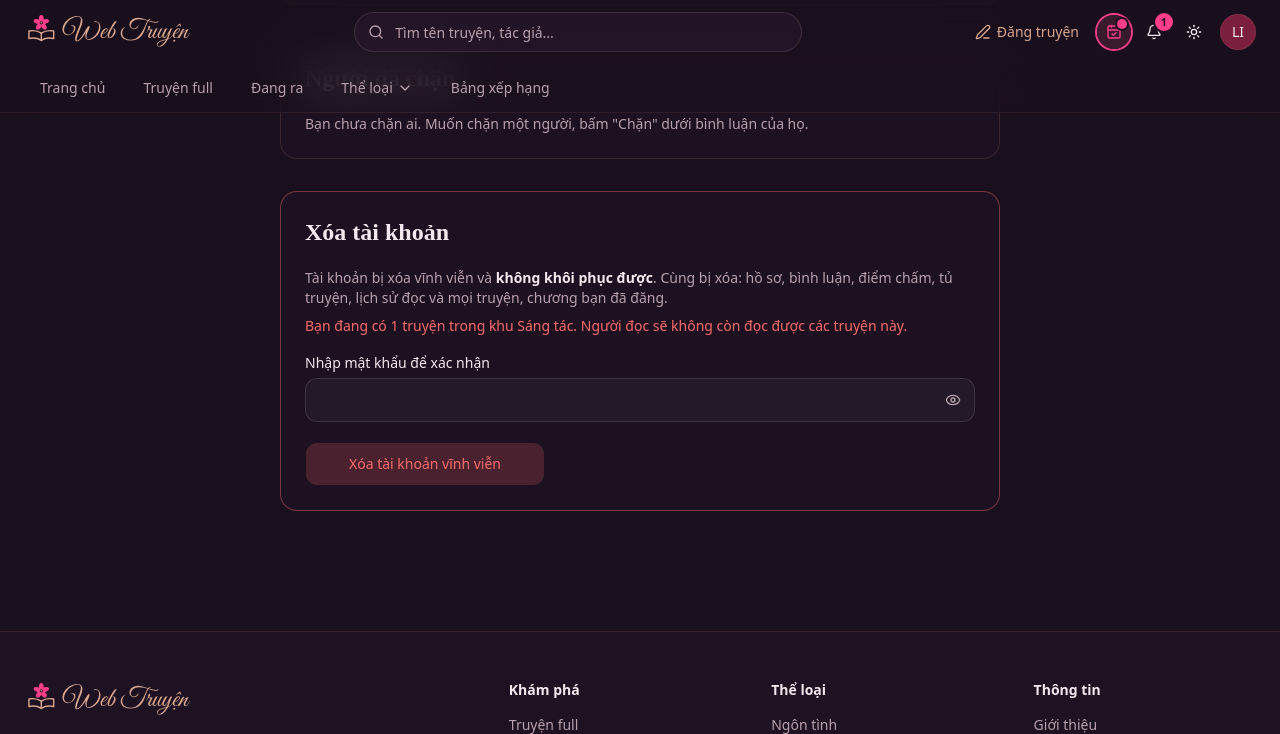
it: xóa tài khoản email: sai mật khẩu thì báo, đúng thì xóa luôn truyện và về trang chủ
(page scrolled)
Expected: the text "Bạn đang có 1 truyện" is shown, [305,316,975,336]
In the password field labelled "Nhập mật khẩu để xác nhận": (640, 400) [305,378,975,422], type "saimatkhau1"
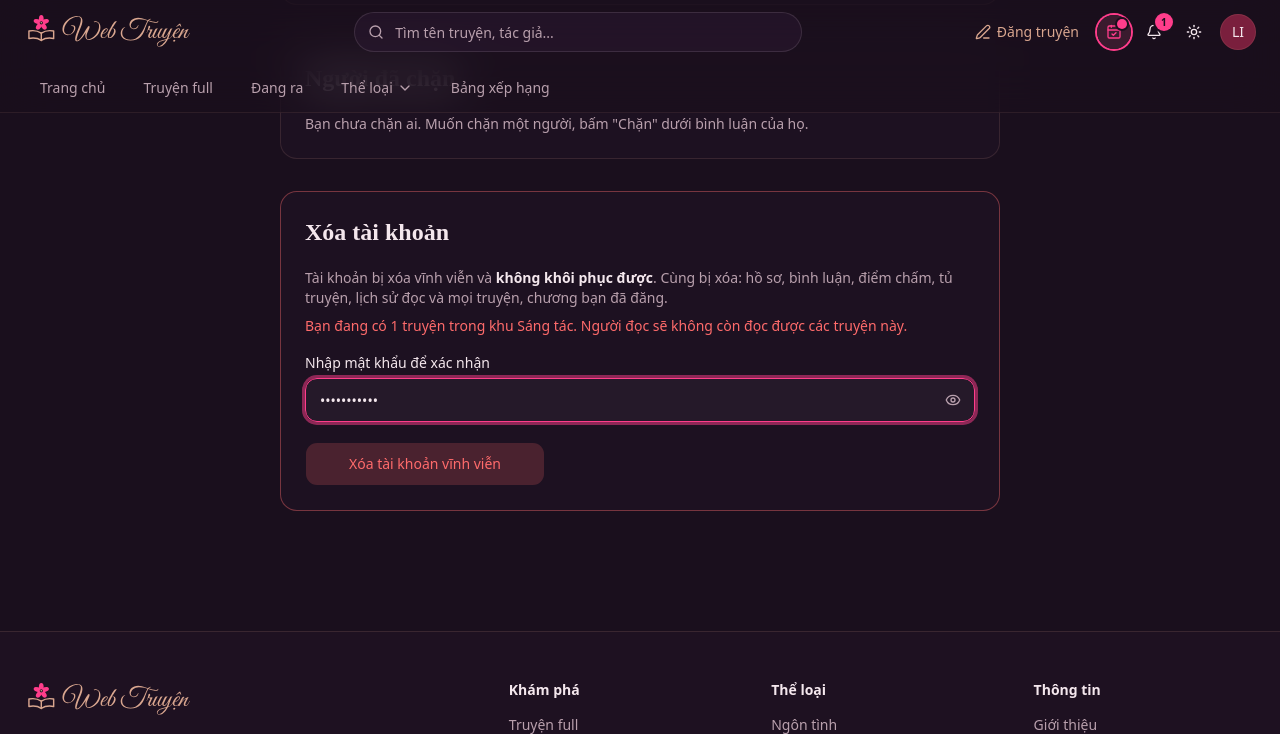
Click the button "Xóa tài khoản vĩnh viễn": (425, 464) [305,442,545,486]
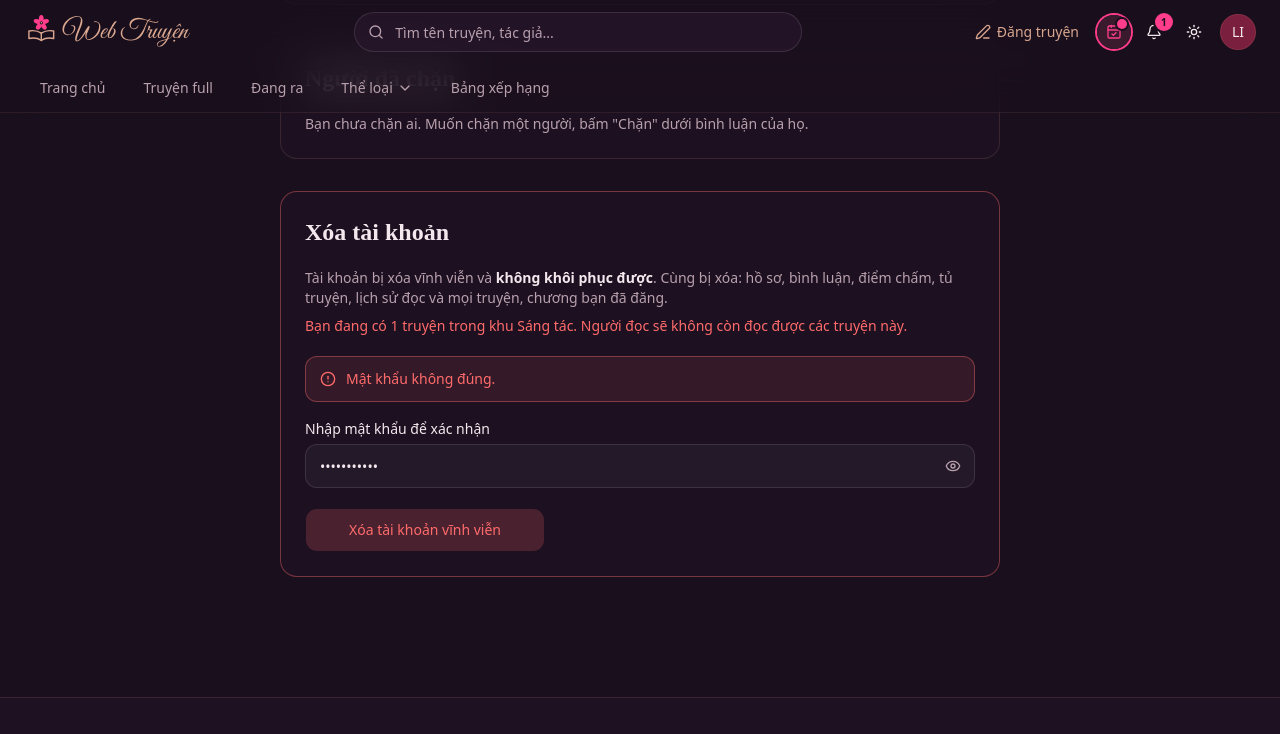
Expected: the text "Mật khẩu không đúng." is shown, [346,369,495,389]
In the password field labelled "Nhập mật khẩu để xác nhận": (640, 466) [305,444,975,488], type "matkhau123"
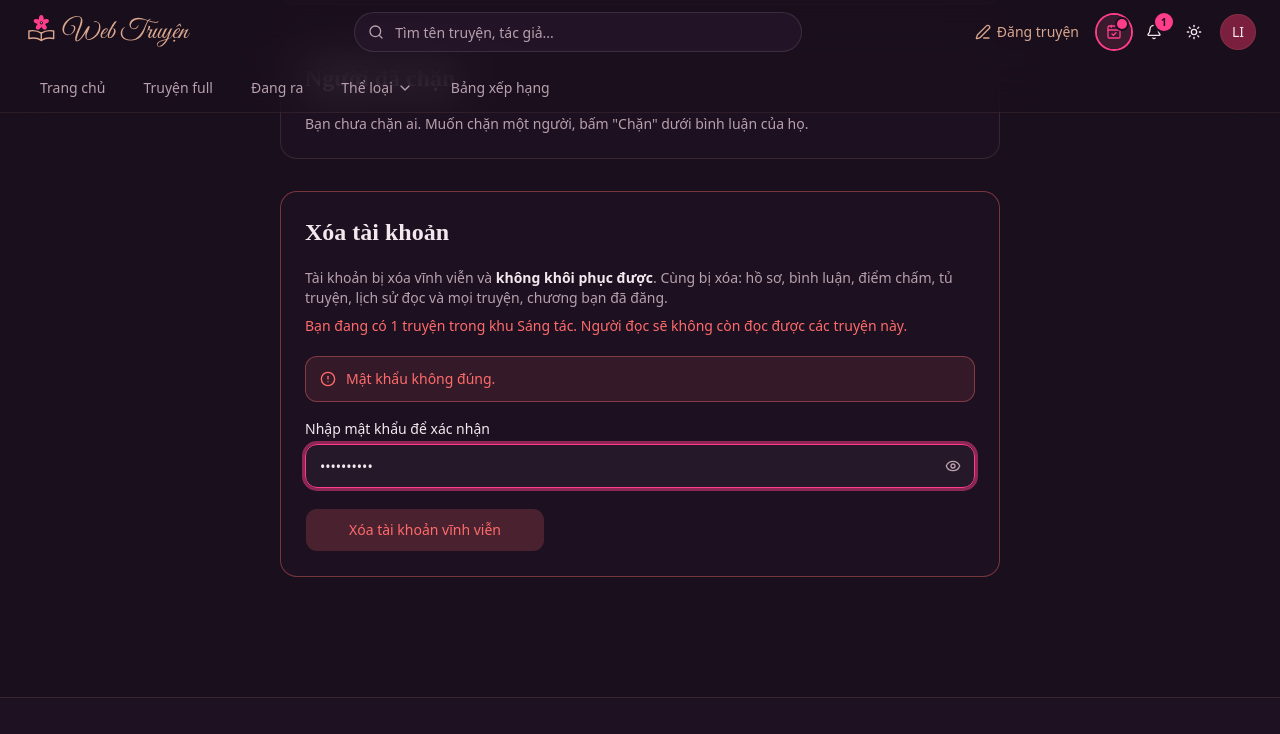
Click the button "Xóa tài khoản vĩnh viễn": (425, 530) [305,508,545,552]
(page scrolled)
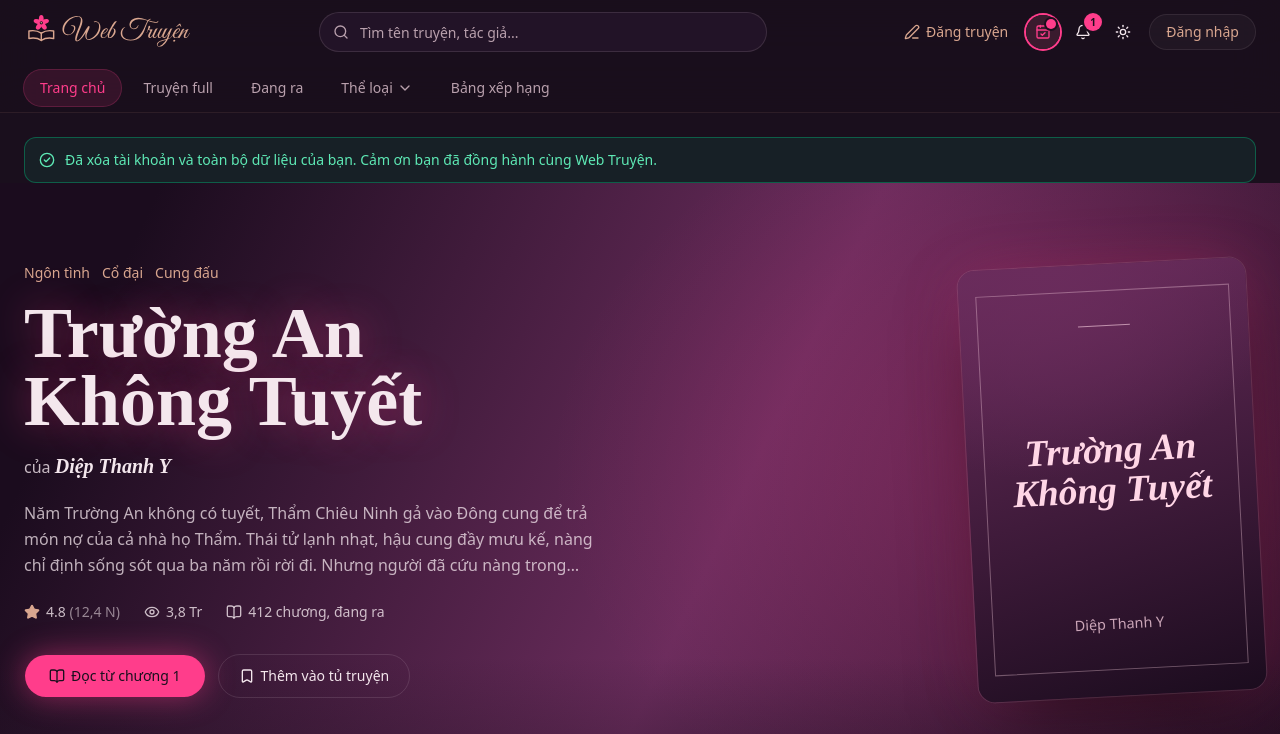
Expected: the text "Đã xóa tài khoản" is shown, [65,150,575,169]
Expected: the link "Đăng nhập" is shown, [1149,14,1256,50]
